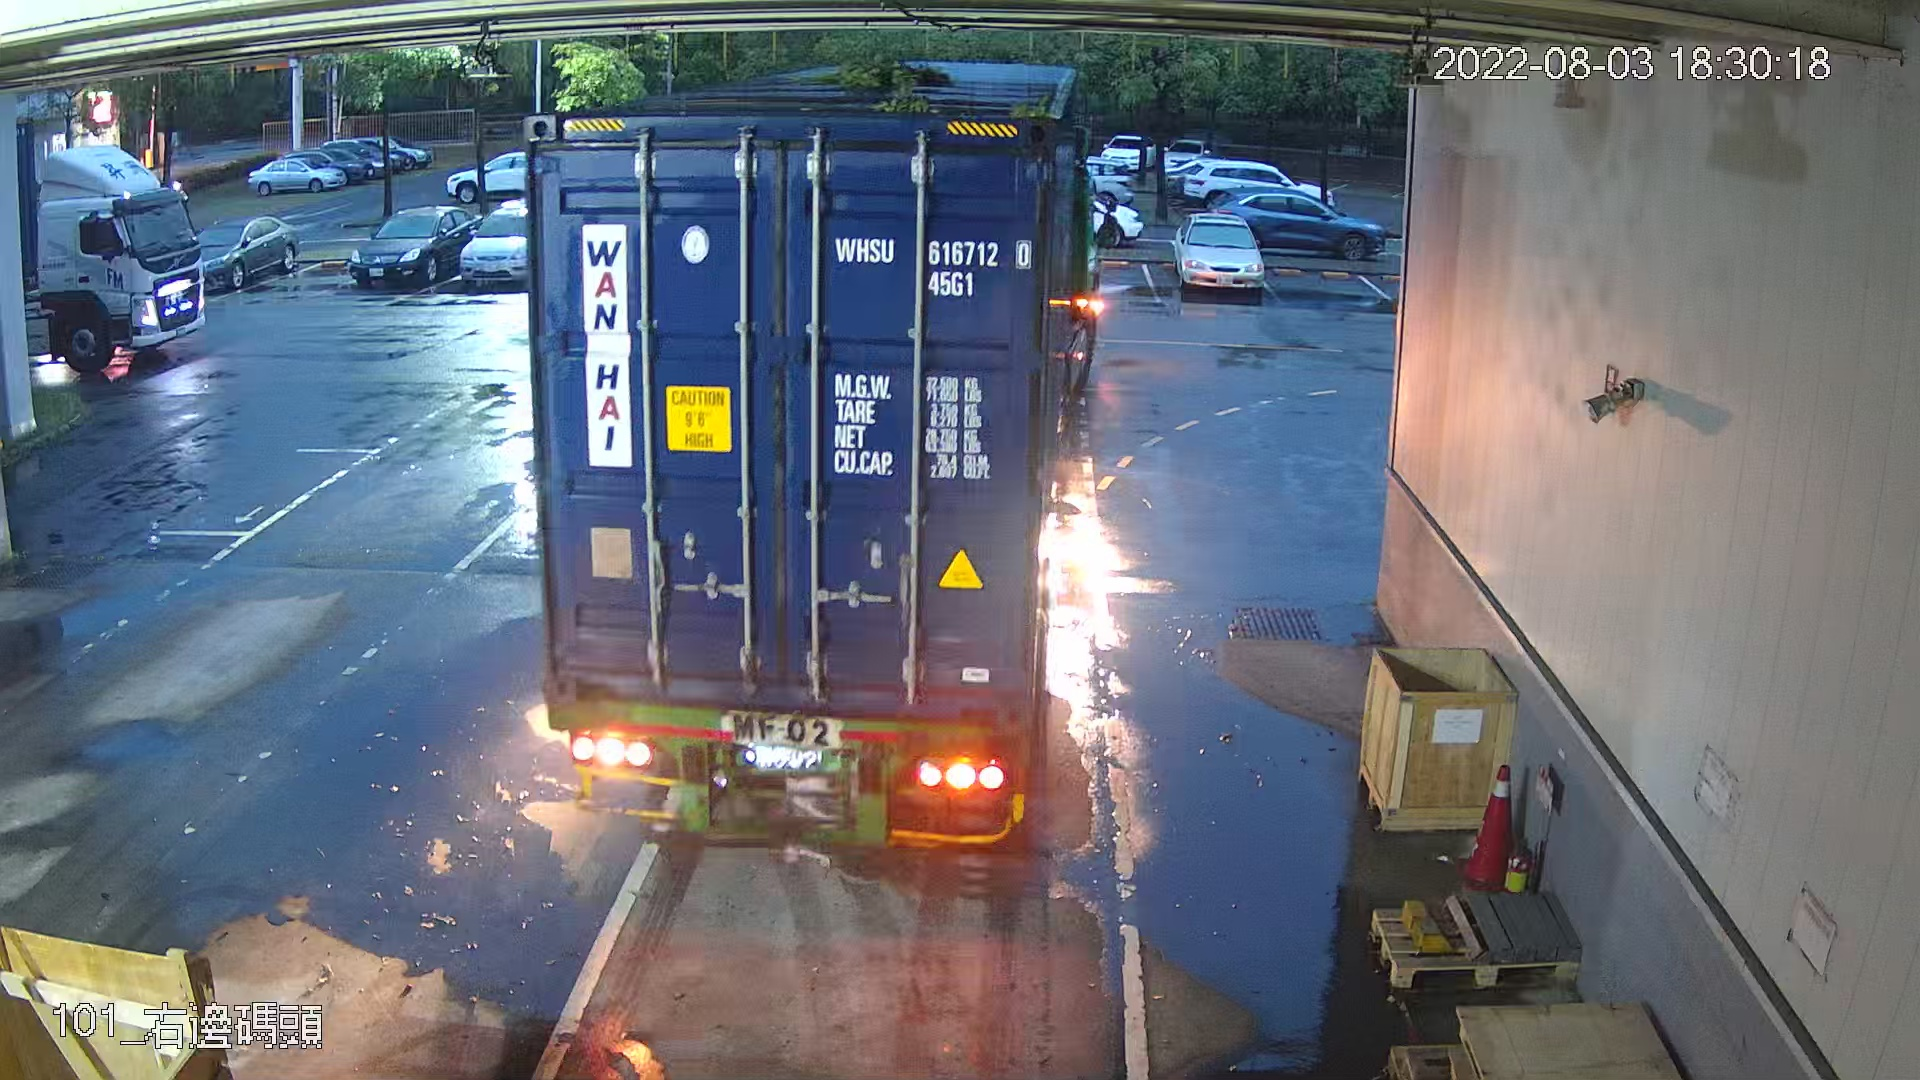container: (828, 225, 1034, 309)
